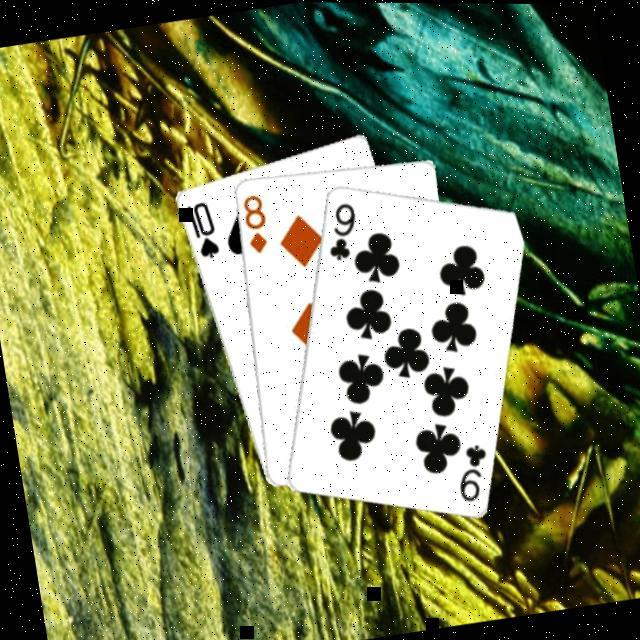10S: (184, 197, 224, 264)
8D: (239, 190, 275, 258)
9C: (319, 198, 366, 265), (450, 439, 497, 506)
